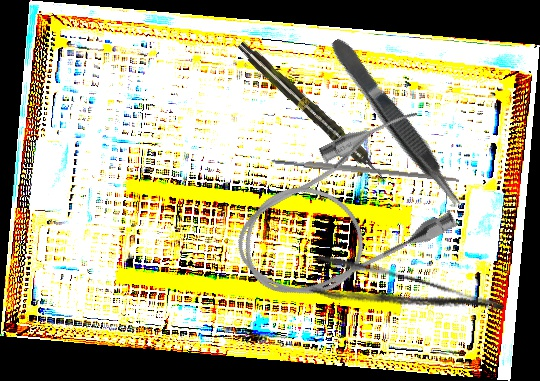Cannula: (212, 100, 473, 323)
Dressing Forceps: (308, 250, 506, 343)
Handpiece: (234, 38, 391, 186)
Scalpel Handle: (271, 156, 460, 184)
Tissue Forceps: (325, 32, 469, 214)
